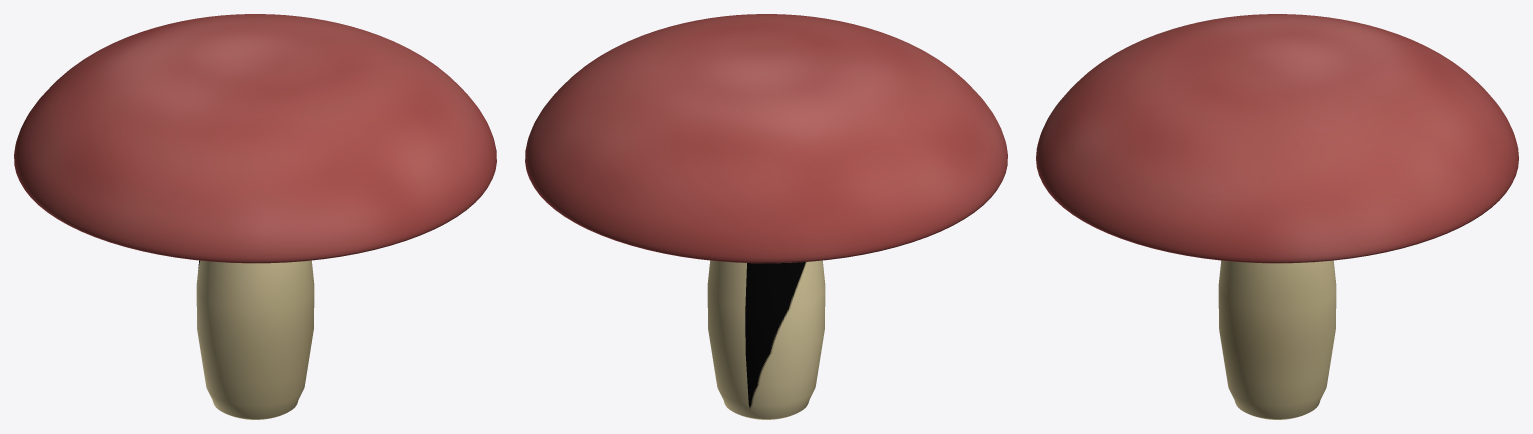
The model's file is kinoko3.fbx.
The picture shows the model from 3 angles, left to right: view 1: azimuth 30°, elevation 25°; view 2: azimuth 150°, elevation 25°; view 3: azimuth 270°, elevation 25°; orthographic projection.
Visible parts, largest first — view 1: pSphere2; view 2: pSphere2; view 3: pSphere2.
Part boxes in pixels (x1,y1,x2,y2): pSphere2: (14, 14, 496, 419); pSphere2: (525, 14, 1007, 419); pSphere2: (1036, 14, 1518, 419).
Size of the model in its own units: 17.41 by 13.97 by 17.41.
